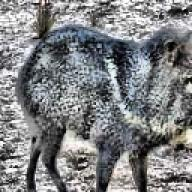boar: (15, 22, 192, 192)
